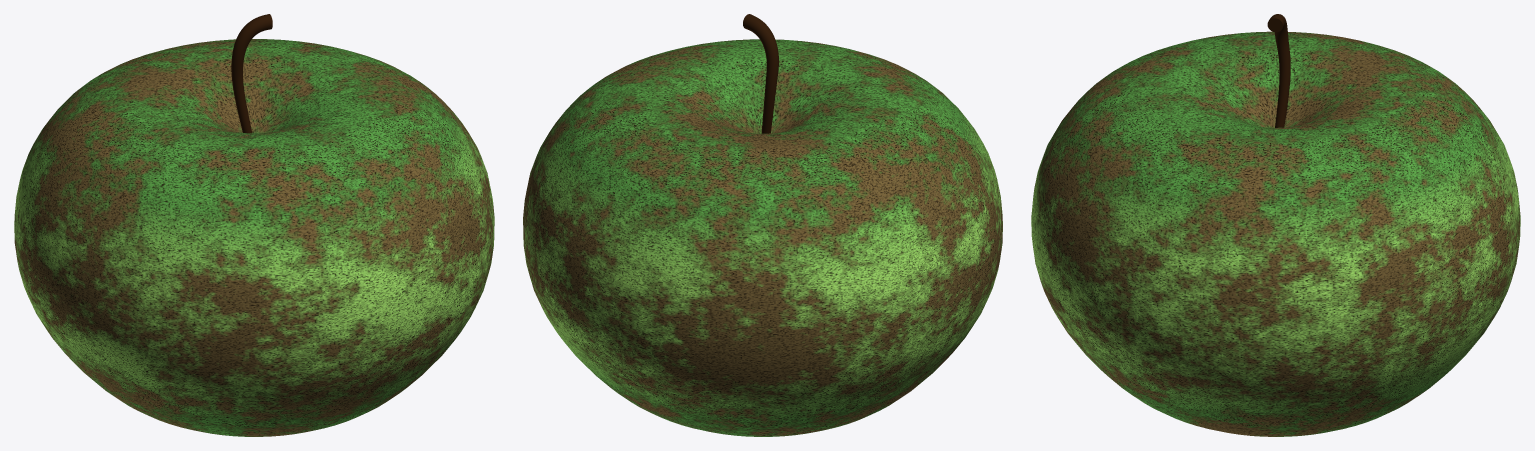
Rendered from 133_manzana_01.glb.
The picture shows the model from 3 angles, left to right: view 1: azimuth 30°, elevation 25°; view 2: azimuth 150°, elevation 25°; view 3: azimuth 270°, elevation 25°; orthographic projection.
Visible parts, largest first — view 1: Manzana.001; view 2: Manzana.001; view 3: Manzana.001.
Boxes of the visible parts, x1=… form: Manzana.001: x1=14, y1=14, x2=494, y2=436; Manzana.001: x1=523, y1=14, x2=1002, y2=436; Manzana.001: x1=1031, y1=14, x2=1520, y2=436.
Size of the model in its own units: 0.0802 by 0.0695 by 0.0802.
2 materials, 2 textured.
